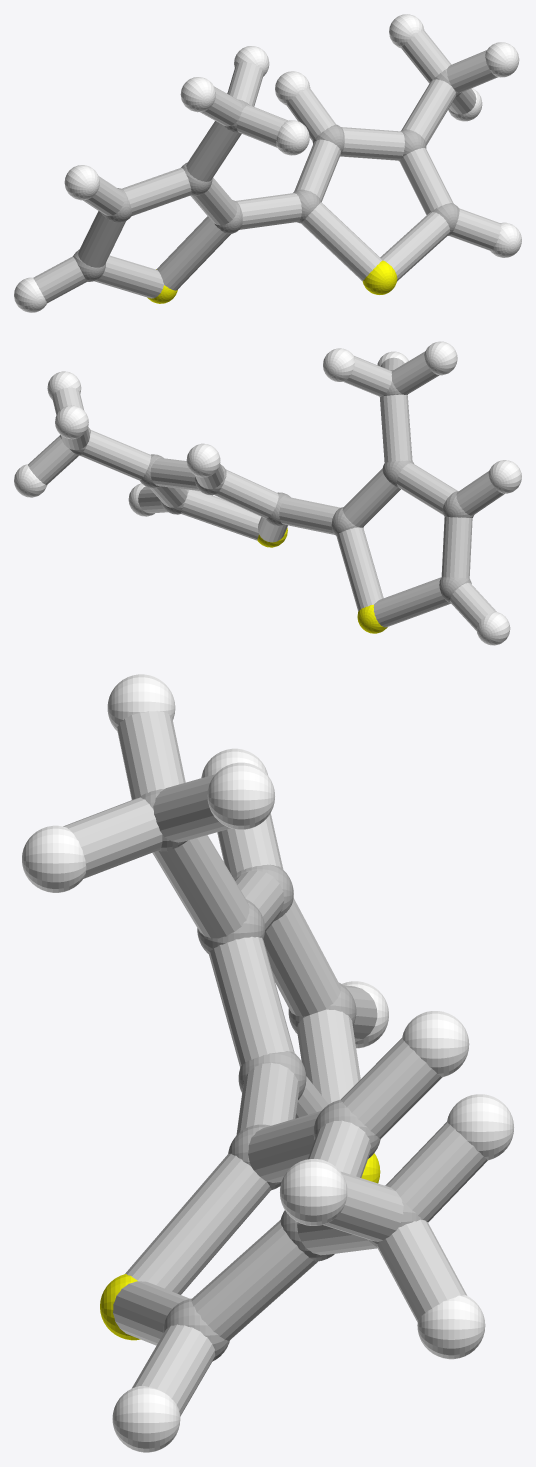
Rendered from color.glb.
The picture shows the model from 3 angles, top to bottom: view 1: azimuth 30°, elevation 25°; view 2: azimuth 150°, elevation 25°; view 3: azimuth 270°, elevation 25°; orthographic projection. The views are drawn at different scales.
Parts seen in each view (by area): view 1: grp7965, grp3621, grp1, grp7241; view 2: grp7965, grp3621, grp1, grp7241; view 3: grp7965, grp3621, grp1, grp7241.
Boxes of the visible parts, bbox=[...] form: grp7965: bbox=[33, 30, 501, 303]; grp3621: bbox=[14, 14, 521, 312]; grp1: bbox=[73, 69, 461, 281]; grp7241: bbox=[147, 260, 397, 303]; grp7965: bbox=[28, 351, 504, 630]; grp3621: bbox=[14, 341, 521, 645]; grp1: bbox=[60, 370, 473, 603]; grp7241: bbox=[257, 528, 387, 633]; grp7965: bbox=[63, 711, 487, 1416]; grp3621: bbox=[22, 674, 513, 1452]; grp1: bbox=[138, 789, 421, 1361]; grp7241: bbox=[100, 1153, 380, 1340].
Bounding box in the file's own units: 9.56 × 4.98 × 4.35.
